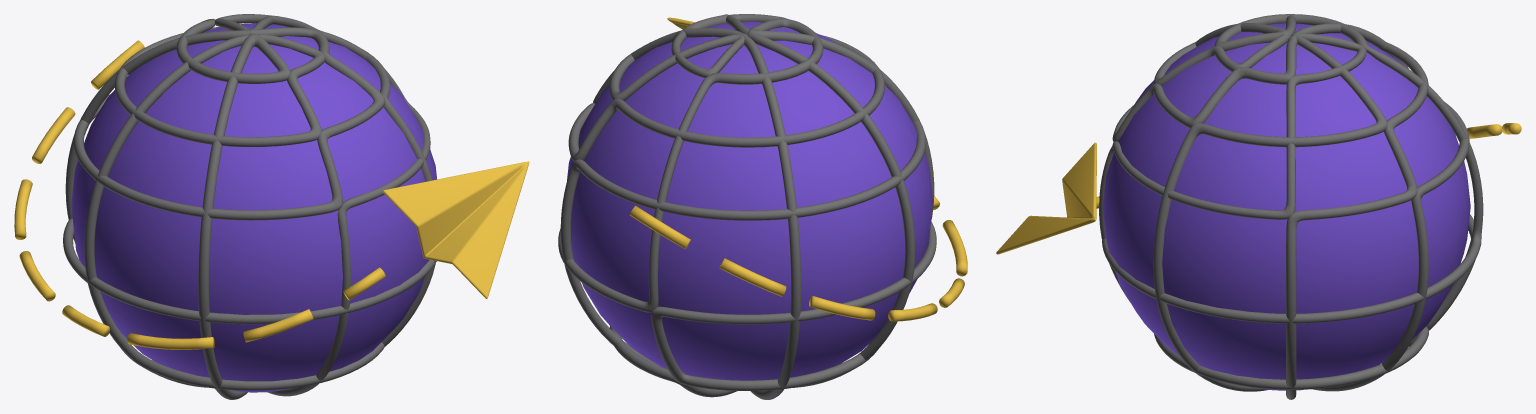
File: global-delivery-3d-icon-1658485336172.glb
The picture shows the model from 3 angles, left to right: view 1: azimuth 30°, elevation 25°; view 2: azimuth 150°, elevation 25°; view 3: azimuth 270°, elevation 25°; orthographic projection.
Parts seen in each view (by area): view 1: Globe, Grid Globe, Plane, Track; view 2: Globe, Grid Globe, Track; view 3: Globe, Grid Globe, Plane, Track.
Part boxes in pixels (x1,y1,x2,y2): Globe: (71,23,436,392); Grid Globe: (63,14,436,399); Plane: (382,161,529,298); Track: (14,40,385,349); Globe: (567,21,932,380); Grid Globe: (558,14,936,399); Track: (629,196,967,321); Globe: (1102,23,1470,390); Grid Globe: (1099,14,1483,399); Plane: (996,142,1096,254); Track: (1096,123,1521,208).
Bounding box in the file's own units: 1.86 × 1.66 × 2.25.
